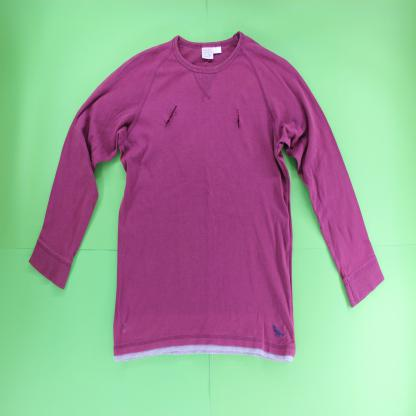hole: (163, 101, 181, 132), (236, 104, 242, 132)
